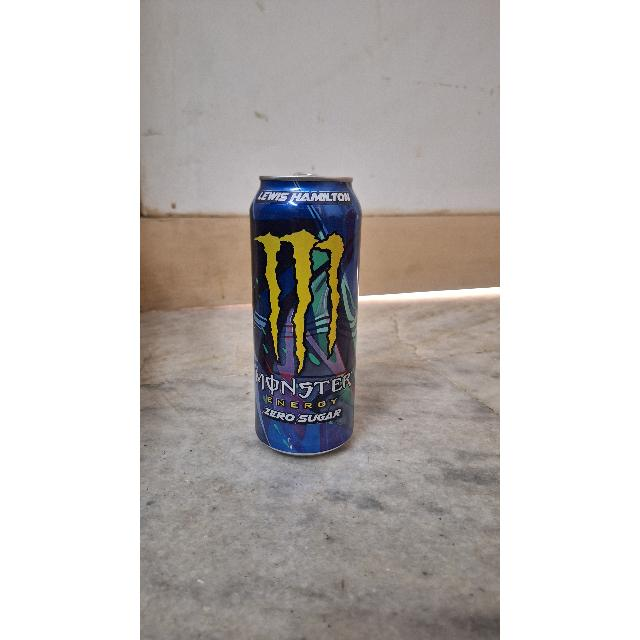Monster LH44: (238, 154, 372, 464)
